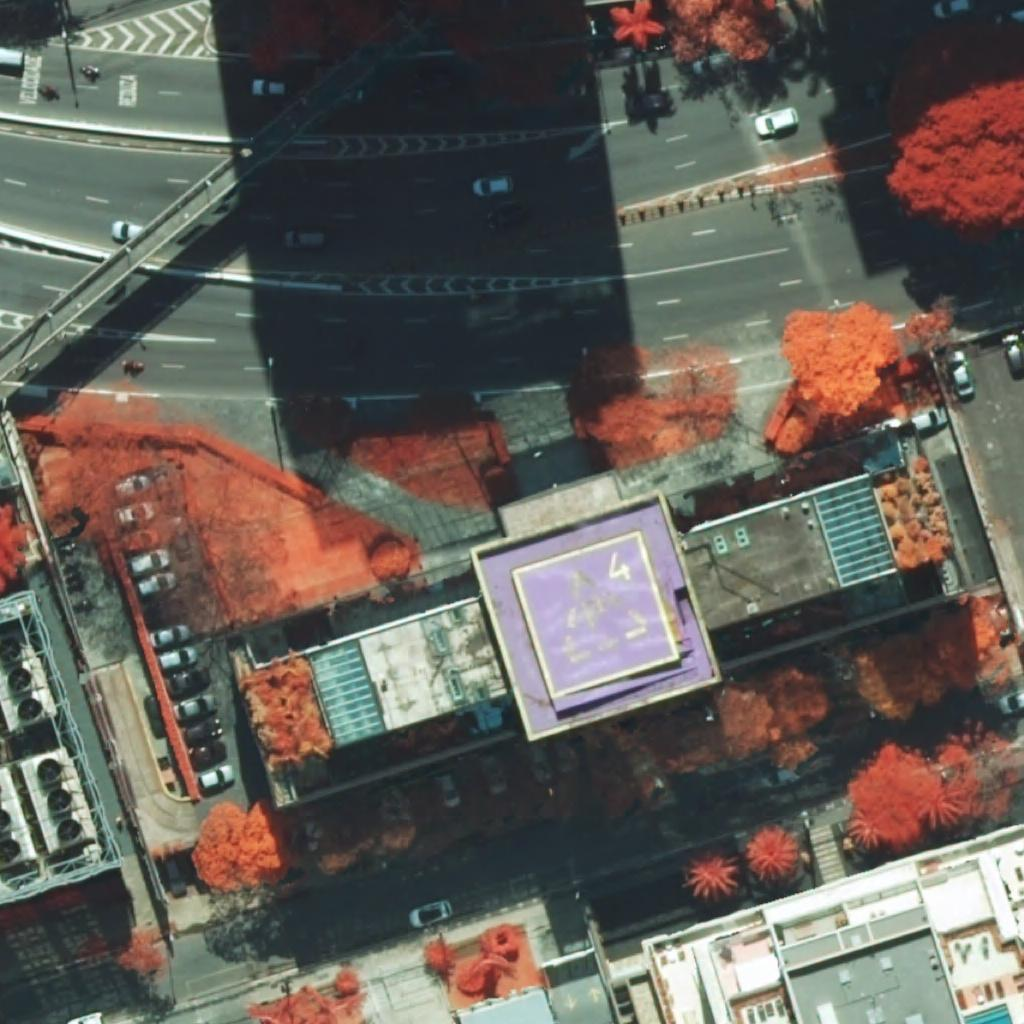pool: (962, 1002, 1013, 1024)
